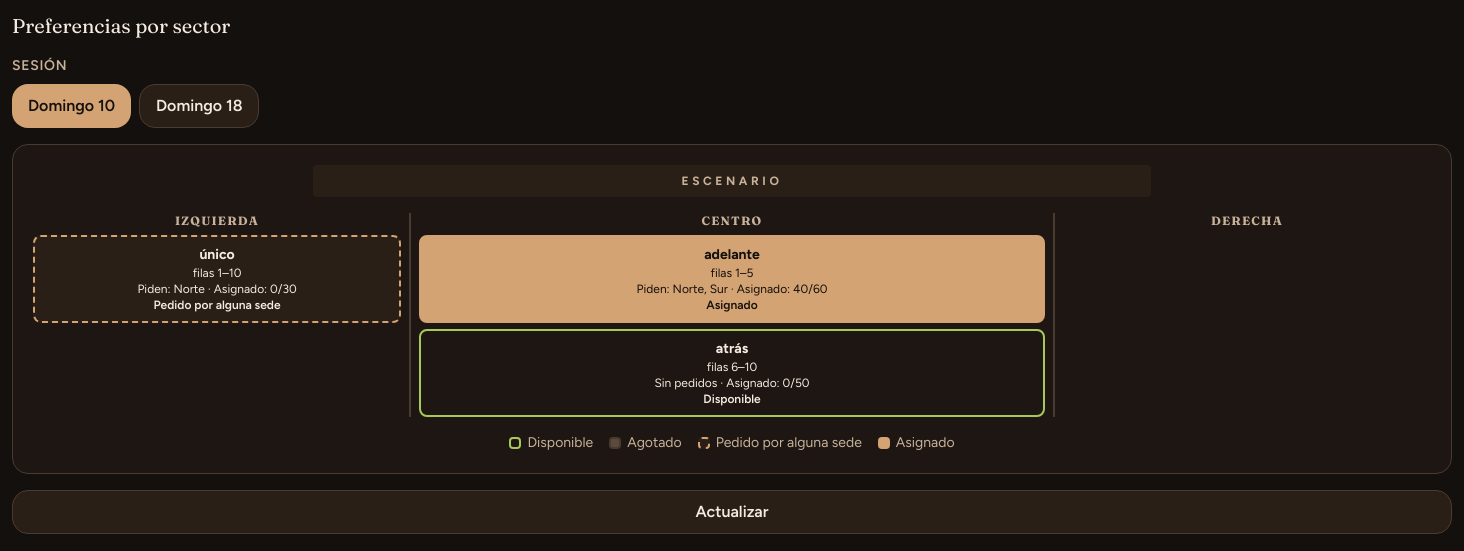
Test case: MapaSupervisor › cambiar de sesión cambia el asignado
Expected: the text "Piden: Norte, Sur · Asignado: 40/60" is shown, x1=637 y1=281 x2=827 y2=297
Expected: the button "Domingo 10" is shown, x1=12 y1=84 x2=131 y2=128
Click the button "Domingo 18": (199, 106) x1=139 y1=84 x2=260 y2=128
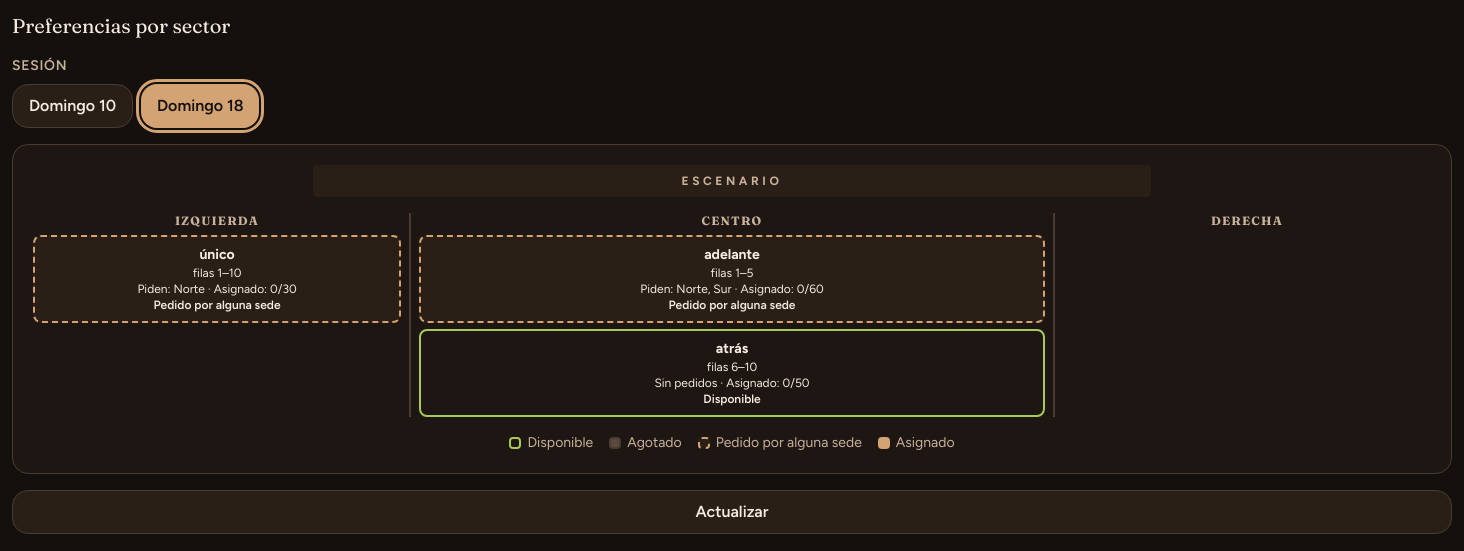
Result: the text "Piden: Norte, Sur · Asignado: 0/60" is shown at x1=640 y1=281 x2=824 y2=297
Result: the button that starts with "adelante" shows "Pedido por alguna sede" at x1=419 y1=235 x2=1045 y2=323
